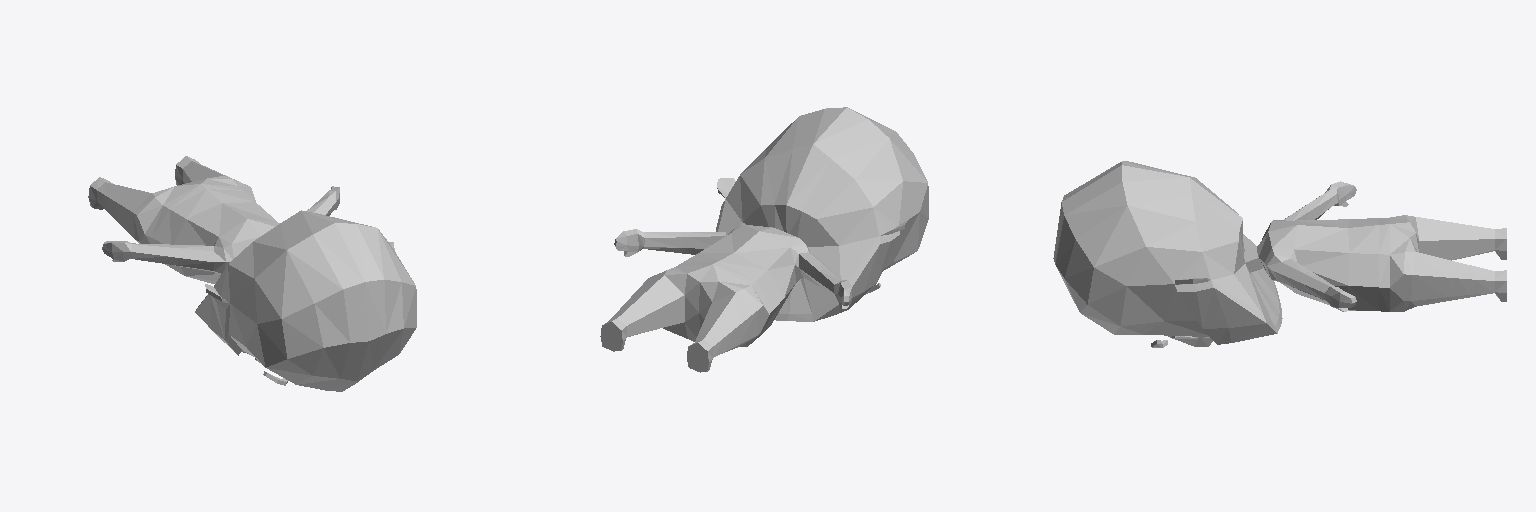
Rendered from gpamodel.obj.
3 views of the same model, side by side, from view 1: azimuth 30°, elevation 25°; view 2: azimuth 150°, elevation 25°; view 3: azimuth 270°, elevation 25° (orthographic).
Visible parts, largest first — view 1: SANTA_Cube.002; view 2: SANTA_Cube.002; view 3: SANTA_Cube.002.
Boxes of the visible parts, x1=… form: SANTA_Cube.002: x1=88, y1=156, x2=416, y2=391; SANTA_Cube.002: x1=600, y1=107, x2=928, y2=372; SANTA_Cube.002: x1=1053, y1=161, x2=1506, y2=347.
Bounding box in the file's own units: 12.49 × 9.23 × 20.84.